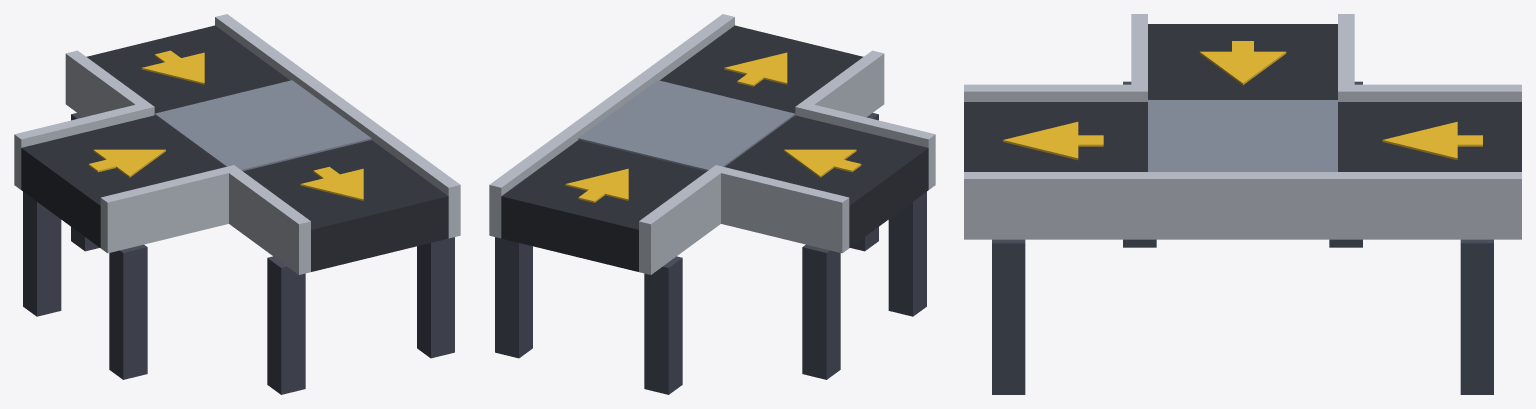
The model's file is conveyor-join-straight-left.glb.
3 views of the same model, side by side, from view 1: azimuth 30°, elevation 25°; view 2: azimuth 150°, elevation 25°; view 3: azimuth 270°, elevation 25° (orthographic). The views are drawn at different scales.
Visible parts, largest first — view 1: conveyor-join-straight-left; view 2: conveyor-join-straight-left; view 3: conveyor-join-straight-left.
Boxes of the visible parts, x1,y1,x2,y2 form: conveyor-join-straight-left: (14, 14, 460, 394); conveyor-join-straight-left: (489, 14, 935, 394); conveyor-join-straight-left: (964, 14, 1521, 394).
Size of the model in its own units: 0.715 by 0.42 by 1.
1 material, 1 textured.
